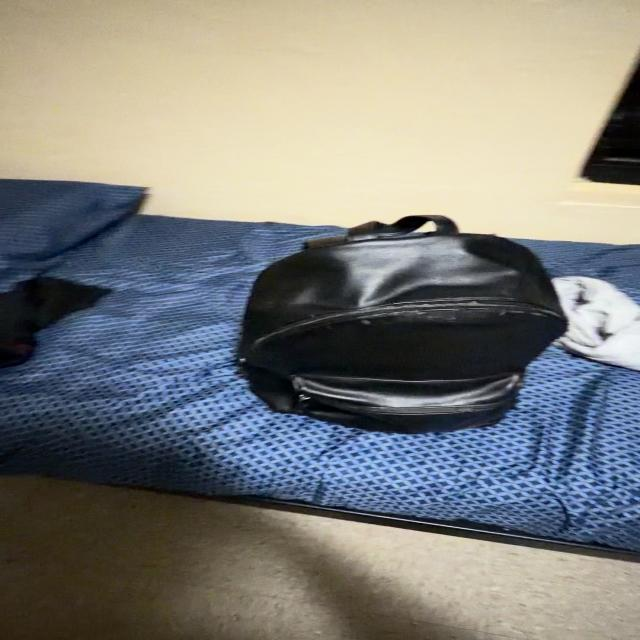backpack: (240, 215, 566, 432)
